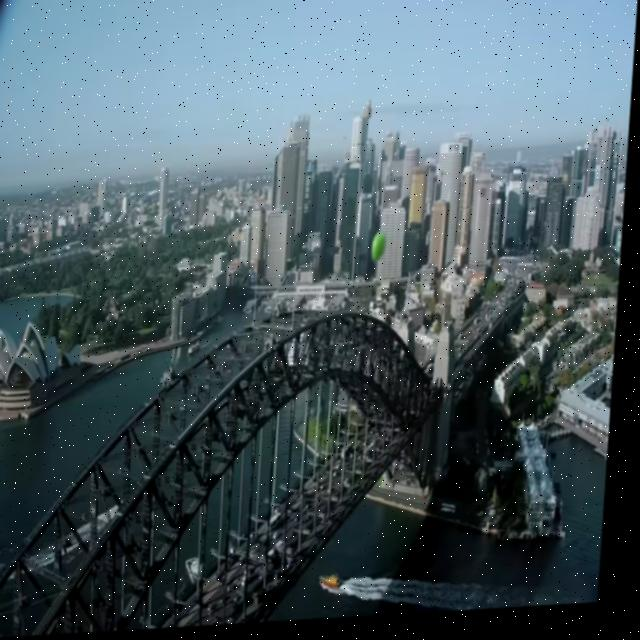balloon: (375, 238, 389, 269)
